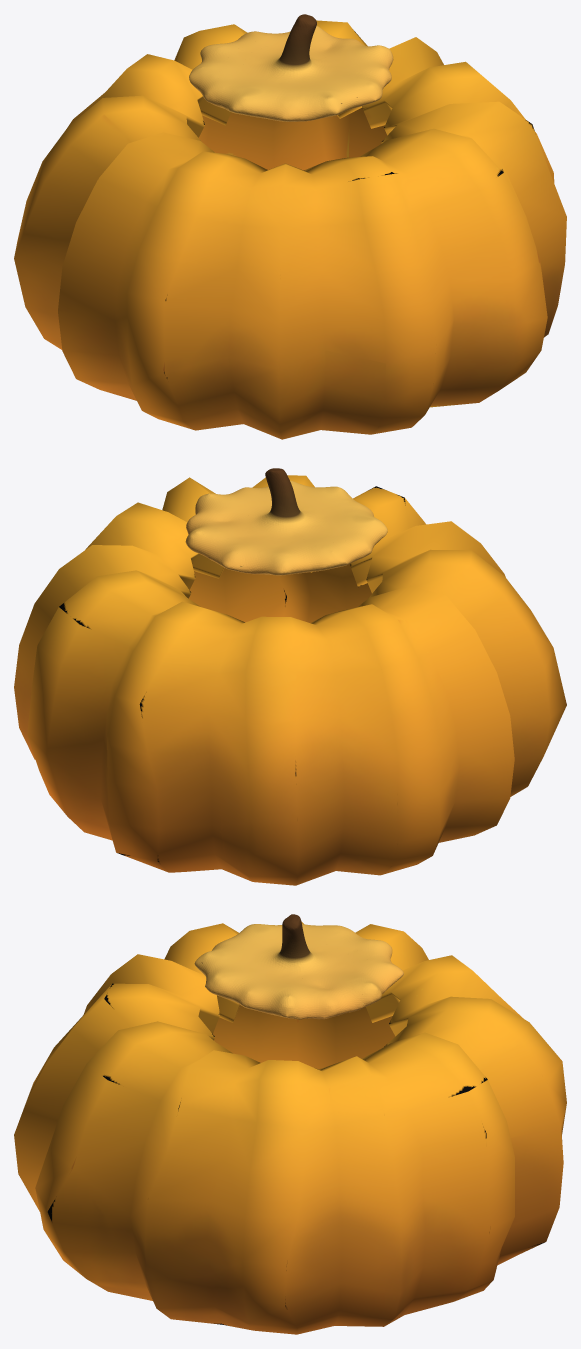
Rendered from pumpkin_v2.glb.
3 views of the same model, one above another, from view 1: azimuth 30°, elevation 25°; view 2: azimuth 150°, elevation 25°; view 3: azimuth 270°, elevation 25° (orthographic). The views are drawn at different scales.
Parts seen in each view (by area): view 1: pumpkin 本体, cano heta; view 2: pumpkin 本体, cano heta; view 3: pumpkin 本体, cano heta.
Boxes of the visible parts, x1,y1,x2,y2 form: pumpkin 本体: [14, 20, 566, 439]; cano heta: [189, 14, 393, 121]; pumpkin 本体: [14, 475, 566, 885]; cano heta: [185, 468, 387, 575]; pumpkin 本体: [14, 921, 566, 1334]; cano heta: [194, 914, 403, 1019].
Size of the model in its own units: 2.02 by 1.36 by 2.02.
2 materials, 2 textured.
